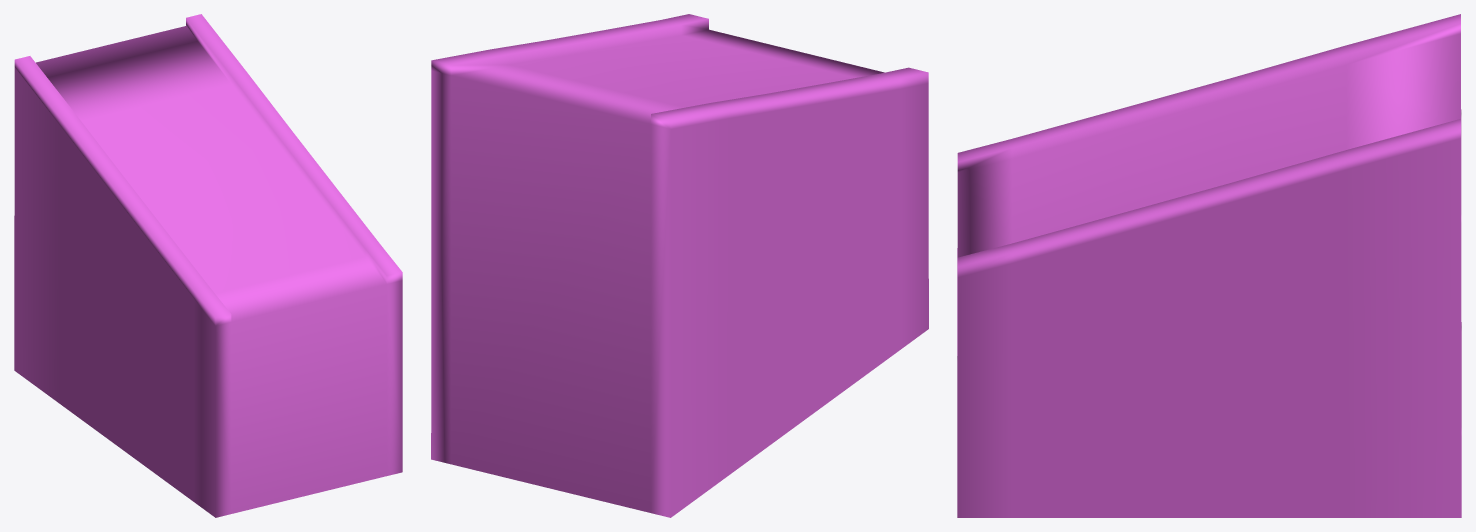
File: RD_Dip_Tall_Half1.fbx
3 views of the same model, side by side, from view 1: azimuth 30°, elevation 25°; view 2: azimuth 150°, elevation 25°; view 3: azimuth 270°, elevation 25° (orthographic). The views are drawn at different scales.
Visible parts, largest first — view 1: Mesh; view 2: Mesh; view 3: Mesh.
Part boxes in pixels (x1,y1,x2,y2): Mesh: (14,14,402,517); Mesh: (431,14,928,517); Mesh: (957,14,1461,517).
Bounding box in the file's own units: 480 × 764 × 895.
